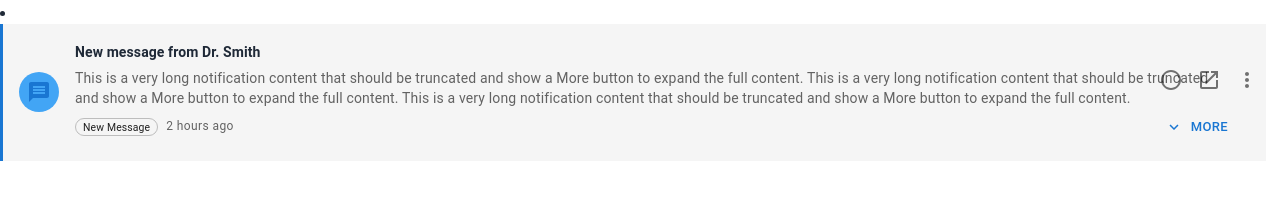
Test case: NotificationItem › Content Expansion › expands and collapses content
Click the button "More": x=1197, y=127 [1163,112,1232,143]
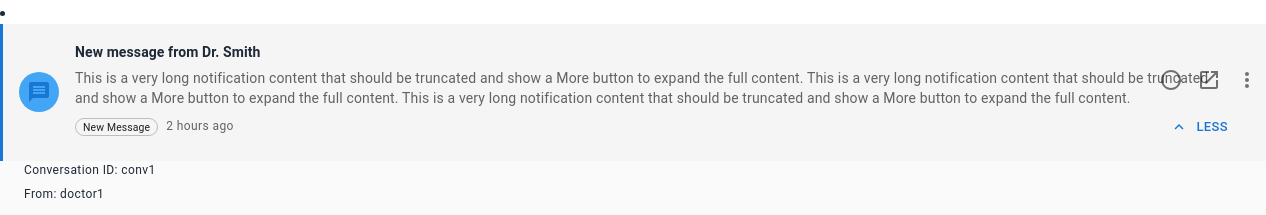
Now the button "Less" is shown
Click the button "Less": x=1200, y=127 [1168,112,1232,143]
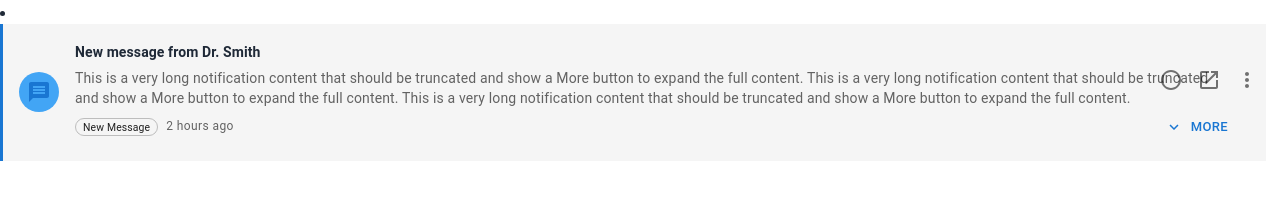
Now the button "More" is shown, box [1163,112,1232,143]
